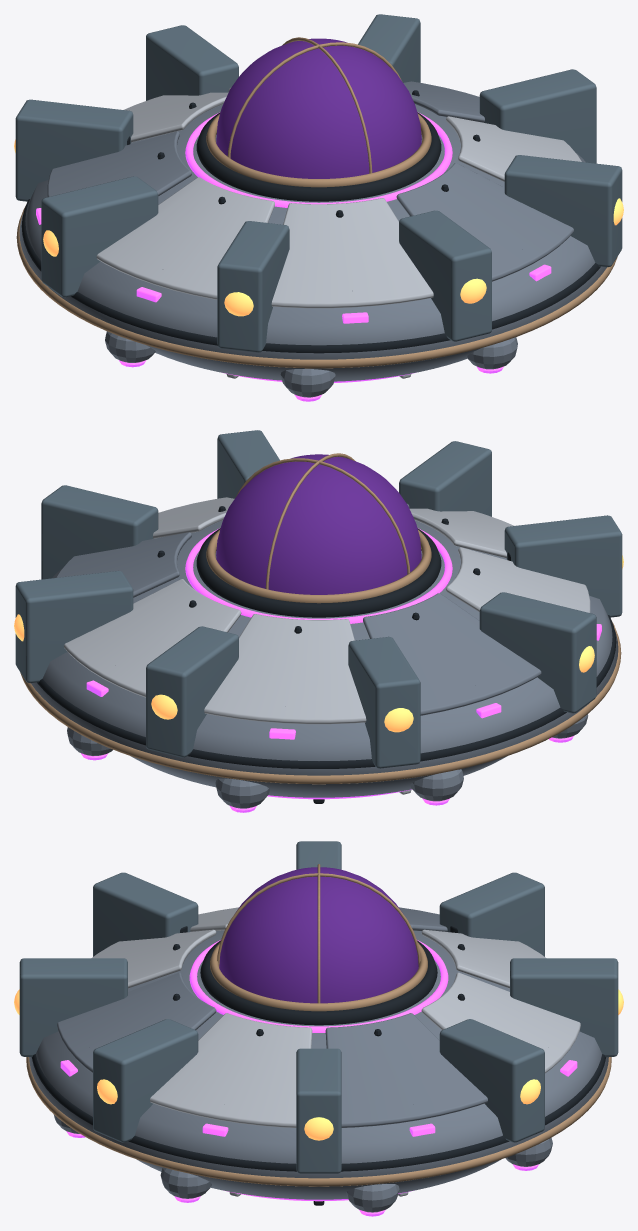
File: ufo-tank.glb
The picture shows the model from 3 angles, top to bottom: view 1: azimuth 30°, elevation 25°; view 2: azimuth 150°, elevation 25°; view 3: azimuth 270°, elevation 25°; orthographic projection. The views are drawn at different scales.
Visible parts, largest first — view 1: Upper Rotor, Class Hardware, Alien Hull; view 2: Upper Rotor, Class Hardware, Alien Hull; view 3: Upper Rotor, Class Hardware, Alien Hull.
Part boxes in pixels (x1,y1,x2,y2): Upper Rotor: [36, 37, 581, 323]; Class Hardware: [14, 14, 623, 352]; Alien Hull: [16, 104, 617, 401]; Upper Rotor: [56, 453, 601, 739]; Class Hardware: [14, 430, 623, 768]; Alien Hull: [20, 520, 621, 812]; Upper Rotor: [57, 864, 580, 1136]; Class Hardware: [14, 841, 623, 1173]; Alien Hull: [26, 930, 611, 1216].
Bounding box in the file's own units: 2.14 × 1.16 × 2.14.
